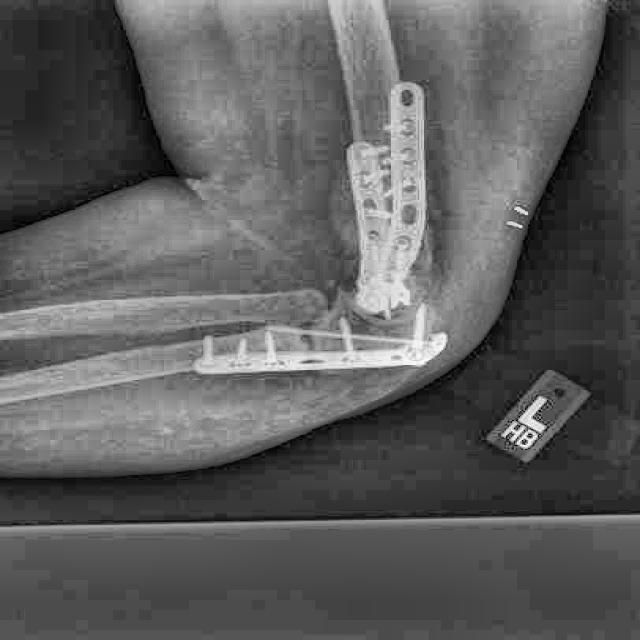elbow positive: (276, 327, 336, 363)
